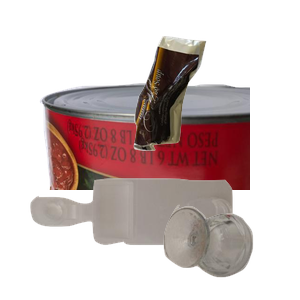glass: (161, 202, 300, 300)
metal: (37, 81, 277, 261)
plastic: (28, 176, 253, 300)
trash: (131, 34, 300, 177)
